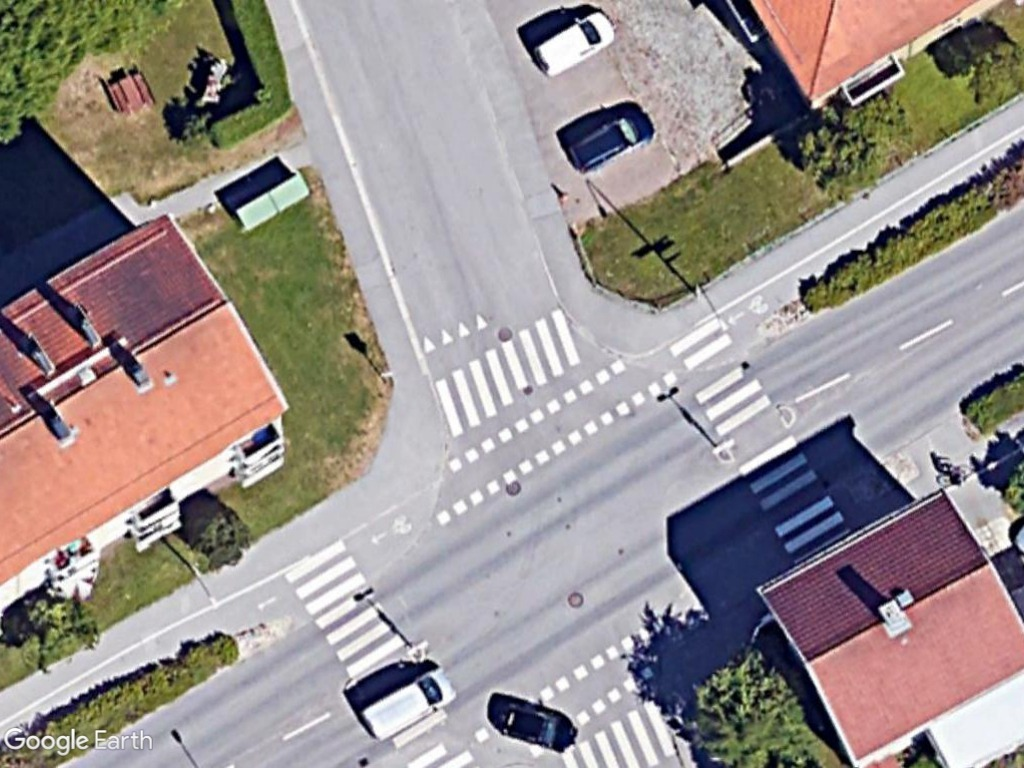car: (524, 7, 620, 84), (560, 101, 658, 176), (487, 696, 583, 757)
van: (355, 661, 460, 750)
